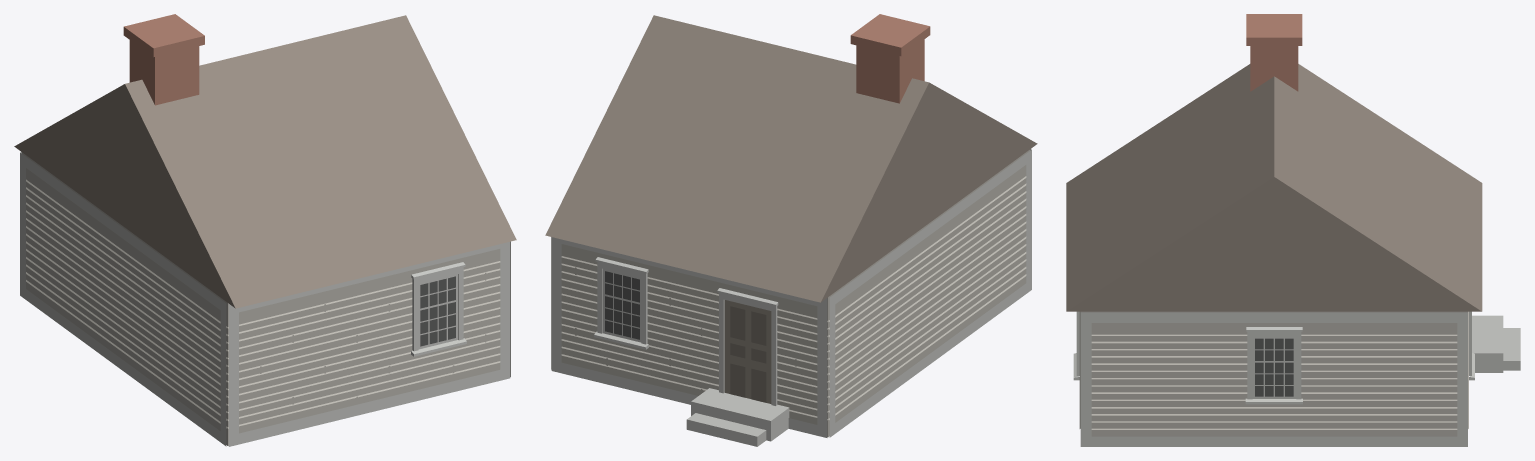
Rendered from recon_1835_blk_washington_franklin_d3_07__inferred_1835.glb.
3 views of the same model, side by side, from view 1: azimuth 30°, elevation 25°; view 2: azimuth 150°, elevation 25°; view 3: azimuth 270°, elevation 25° (orthographic). The views are drawn at different scales.
Visible parts, largest first — view 1: recon_1835_blk_washington_franklin_d3_07__inferred_1835; view 2: recon_1835_blk_washington_franklin_d3_07__inferred_1835; view 3: recon_1835_blk_washington_franklin_d3_07__inferred_1835.
Part boxes in pixels (x1,y1,x2,y2): recon_1835_blk_washington_franklin_d3_07__inferred_1835: (14,14,516,446); recon_1835_blk_washington_franklin_d3_07__inferred_1835: (545,14,1037,446); recon_1835_blk_washington_franklin_d3_07__inferred_1835: (1066,14,1520,446).
Size of the model in its own units: 5.49 by 5.99 by 7.96.
